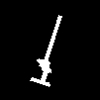double_crochet: (30, 16, 61, 85)
